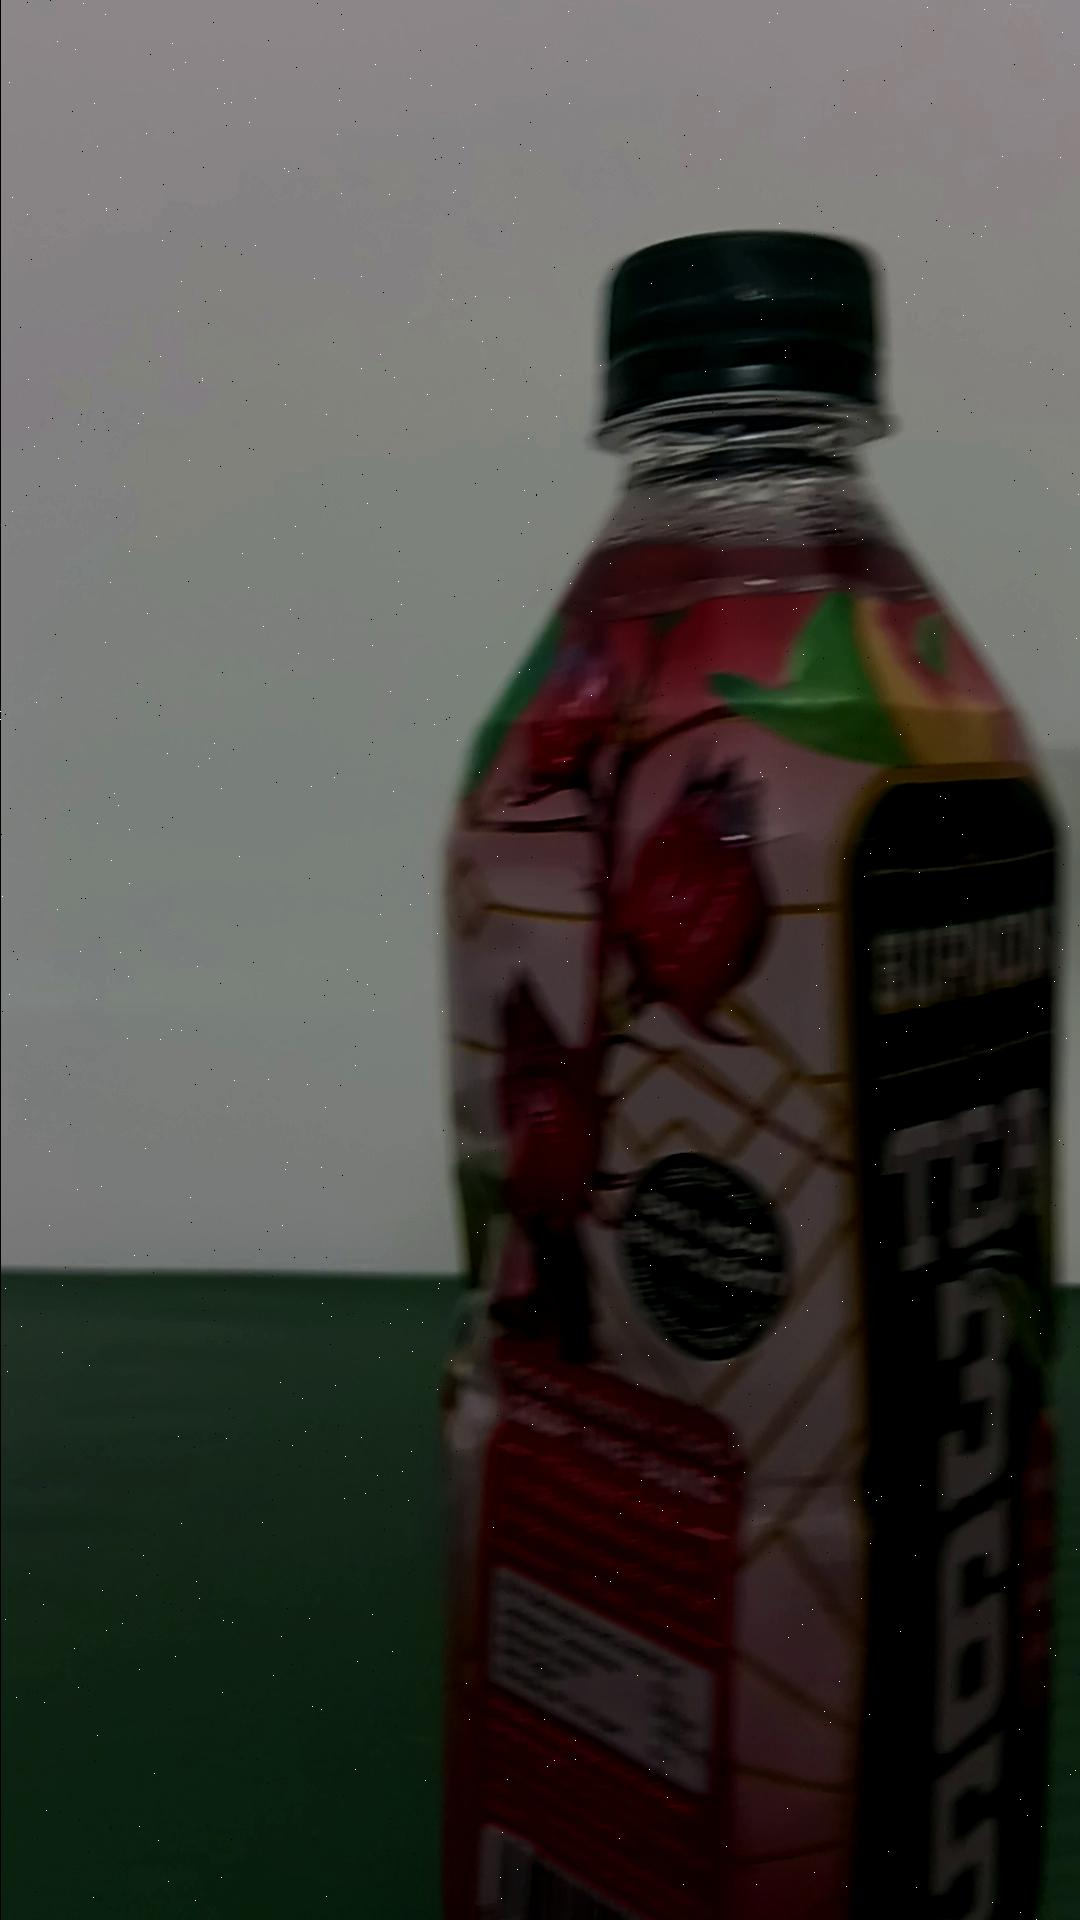loi meo sp: (433, 227, 1065, 1915)
